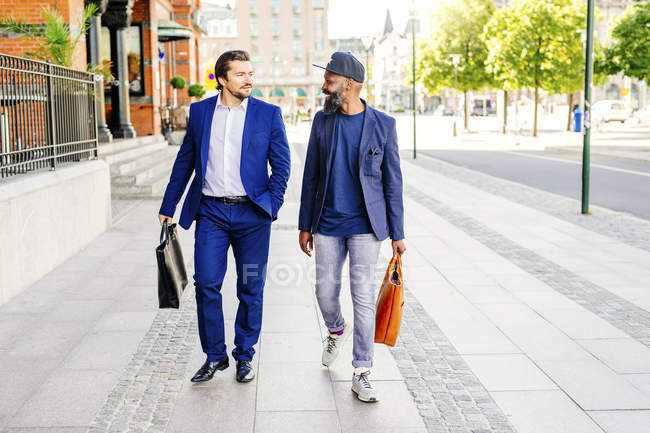face: (314, 51, 369, 115), (211, 49, 259, 99)
